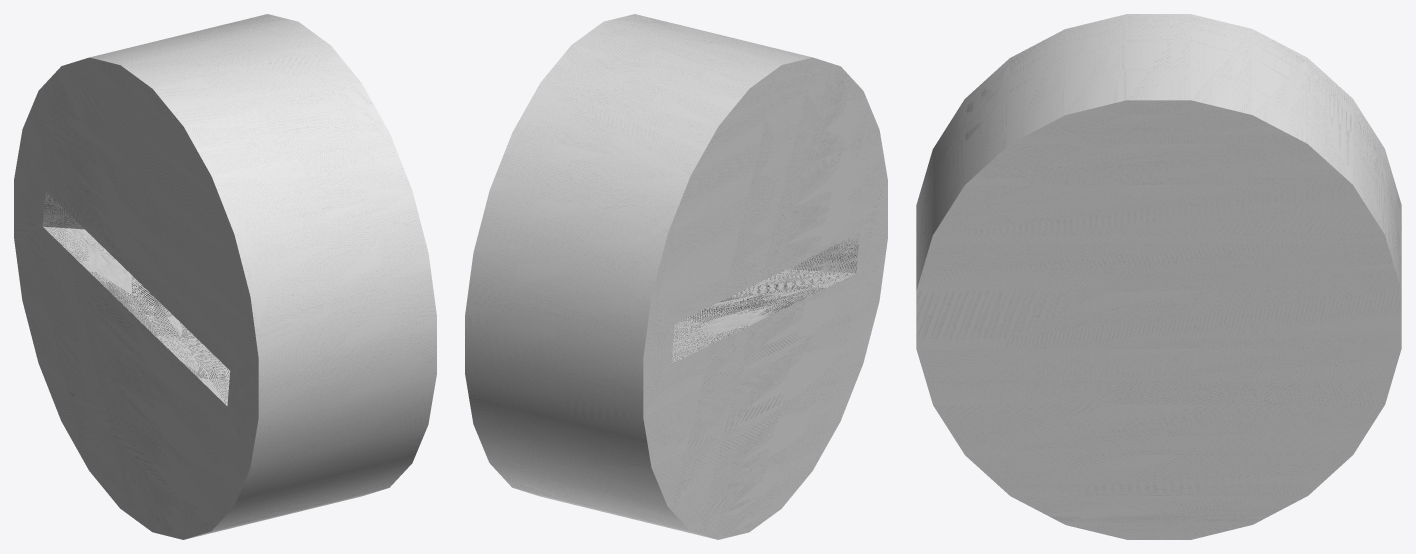
The model's file is original-2.obj.
3 renders of one model, left to right at view 1: azimuth 30°, elevation 25°; view 2: azimuth 150°, elevation 25°; view 3: azimuth 270°, elevation 25°, orthographic.
Visible parts, largest first — view 1: Group2/mesh2/mesh2-geometry#mesh2-geometry; view 2: Group2/mesh2/mesh2-geometry#mesh2-geometry; view 3: Group2/mesh2/mesh2-geometry#mesh2-geometry.
Boxes of the visible parts, box(x1,y1,x2,y2) form: Group2/mesh2/mesh2-geometry#mesh2-geometry: box(14, 14, 436, 539); Group2/mesh2/mesh2-geometry#mesh2-geometry: box(465, 14, 887, 539); Group2/mesh2/mesh2-geometry#mesh2-geometry: box(916, 14, 1401, 539).
Bounding box in the file's own units: 0.0358 × 0.0852 × 0.0852.
